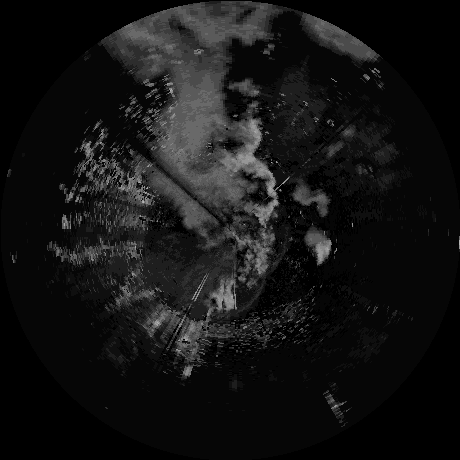frontgust: (240, 279, 264, 315), (271, 228, 289, 271)
